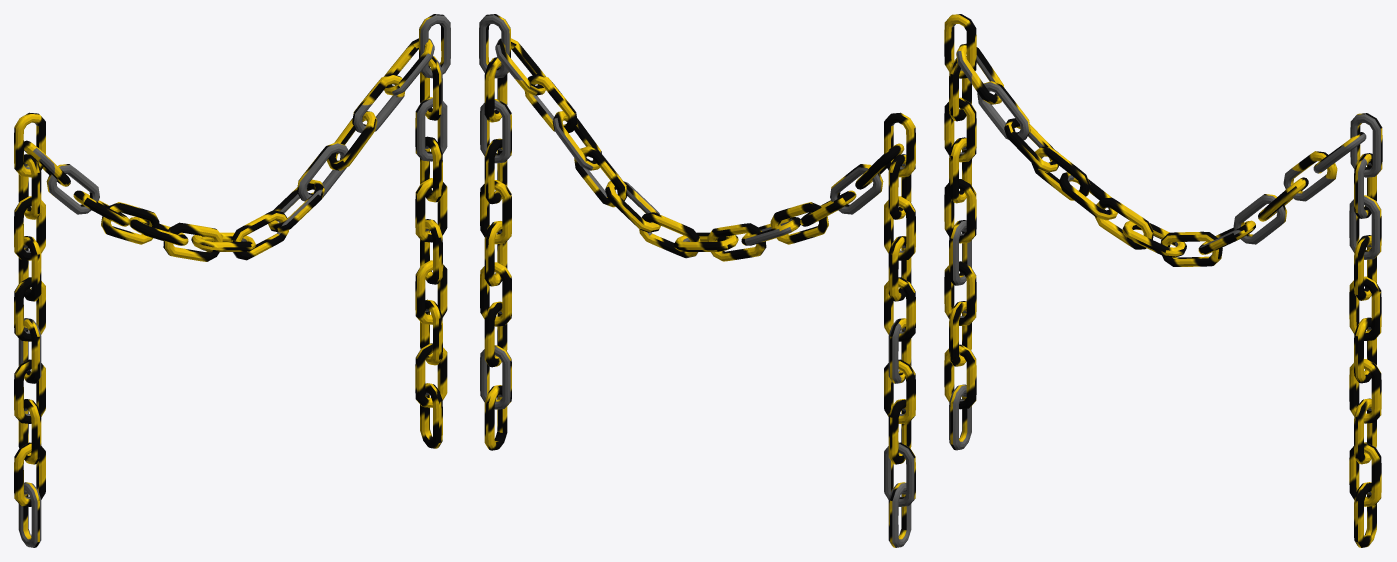
The model's file is Chains.fbx.
3 views of the same model, side by side, from view 1: azimuth 30°, elevation 25°; view 2: azimuth 150°, elevation 25°; view 3: azimuth 330°, elevation 25° (orthographic).
Parts seen in each view (by area): view 1: Chains; view 2: Chains; view 3: Chains.
Part boxes in pixels (left/top/right/bottom): Chains: left=14, top=14, right=450, bottom=547; Chains: left=479, top=14, right=915, bottom=547; Chains: left=944, top=14, right=1382, bottom=547.
Bounding box in the file's own units: 3.31 × 3.15 × 0.2574.
